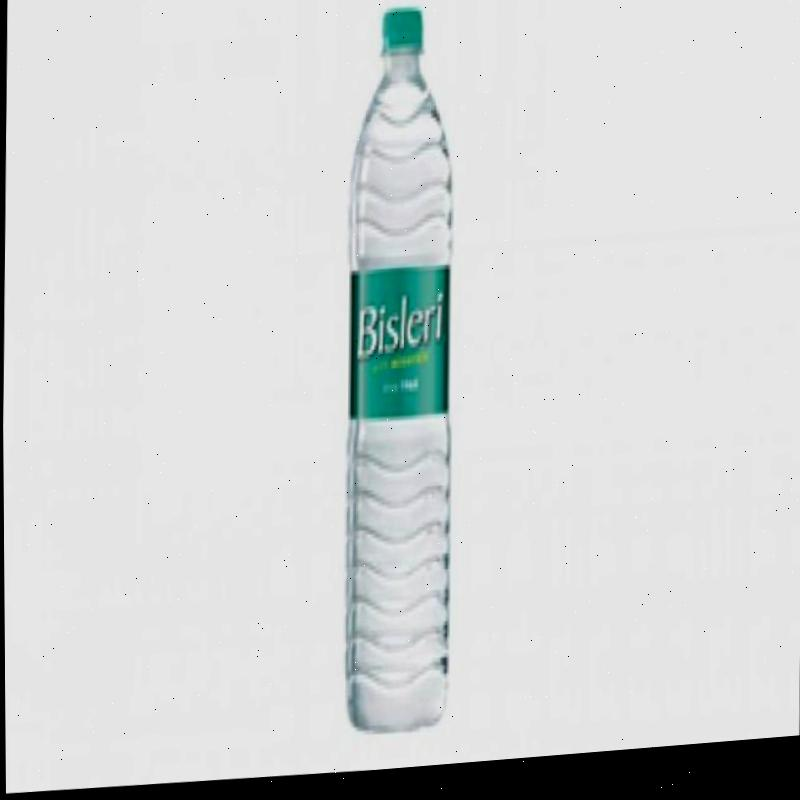botella: (340, 11, 459, 739)
